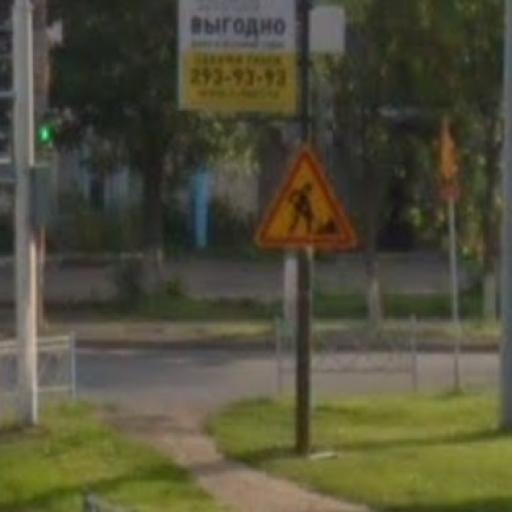traffic_sign: (251, 141, 363, 256)
